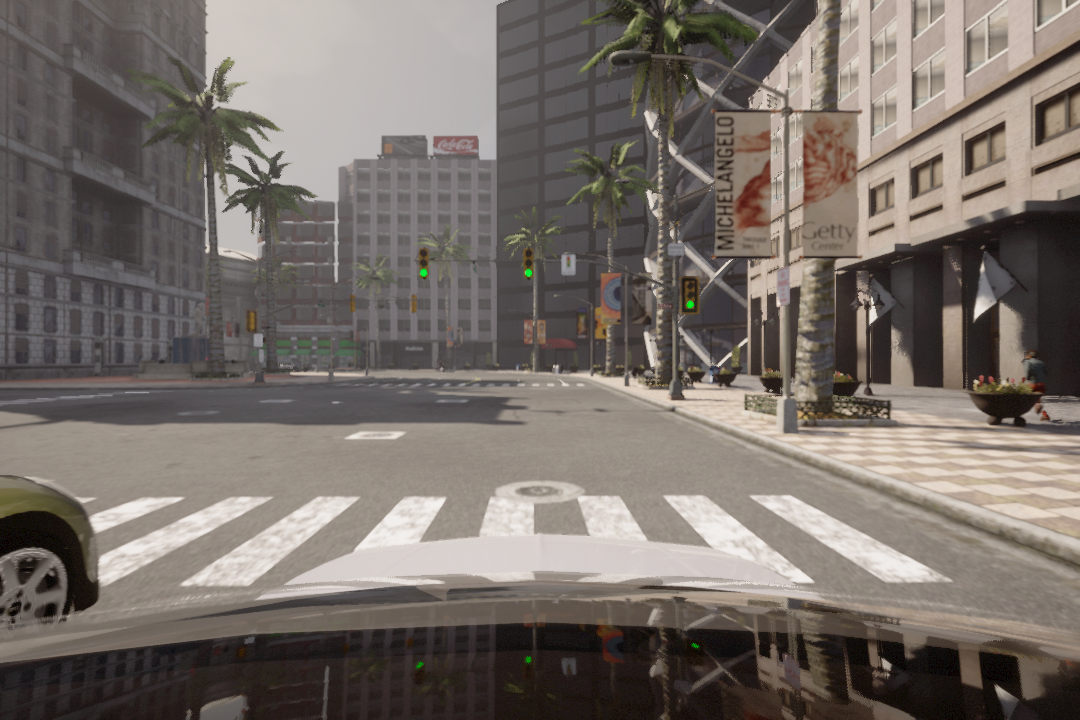TrafficLight: (521, 246, 535, 279), (684, 277, 697, 311), (416, 247, 429, 281)
walkside: (11, 486, 945, 592)
